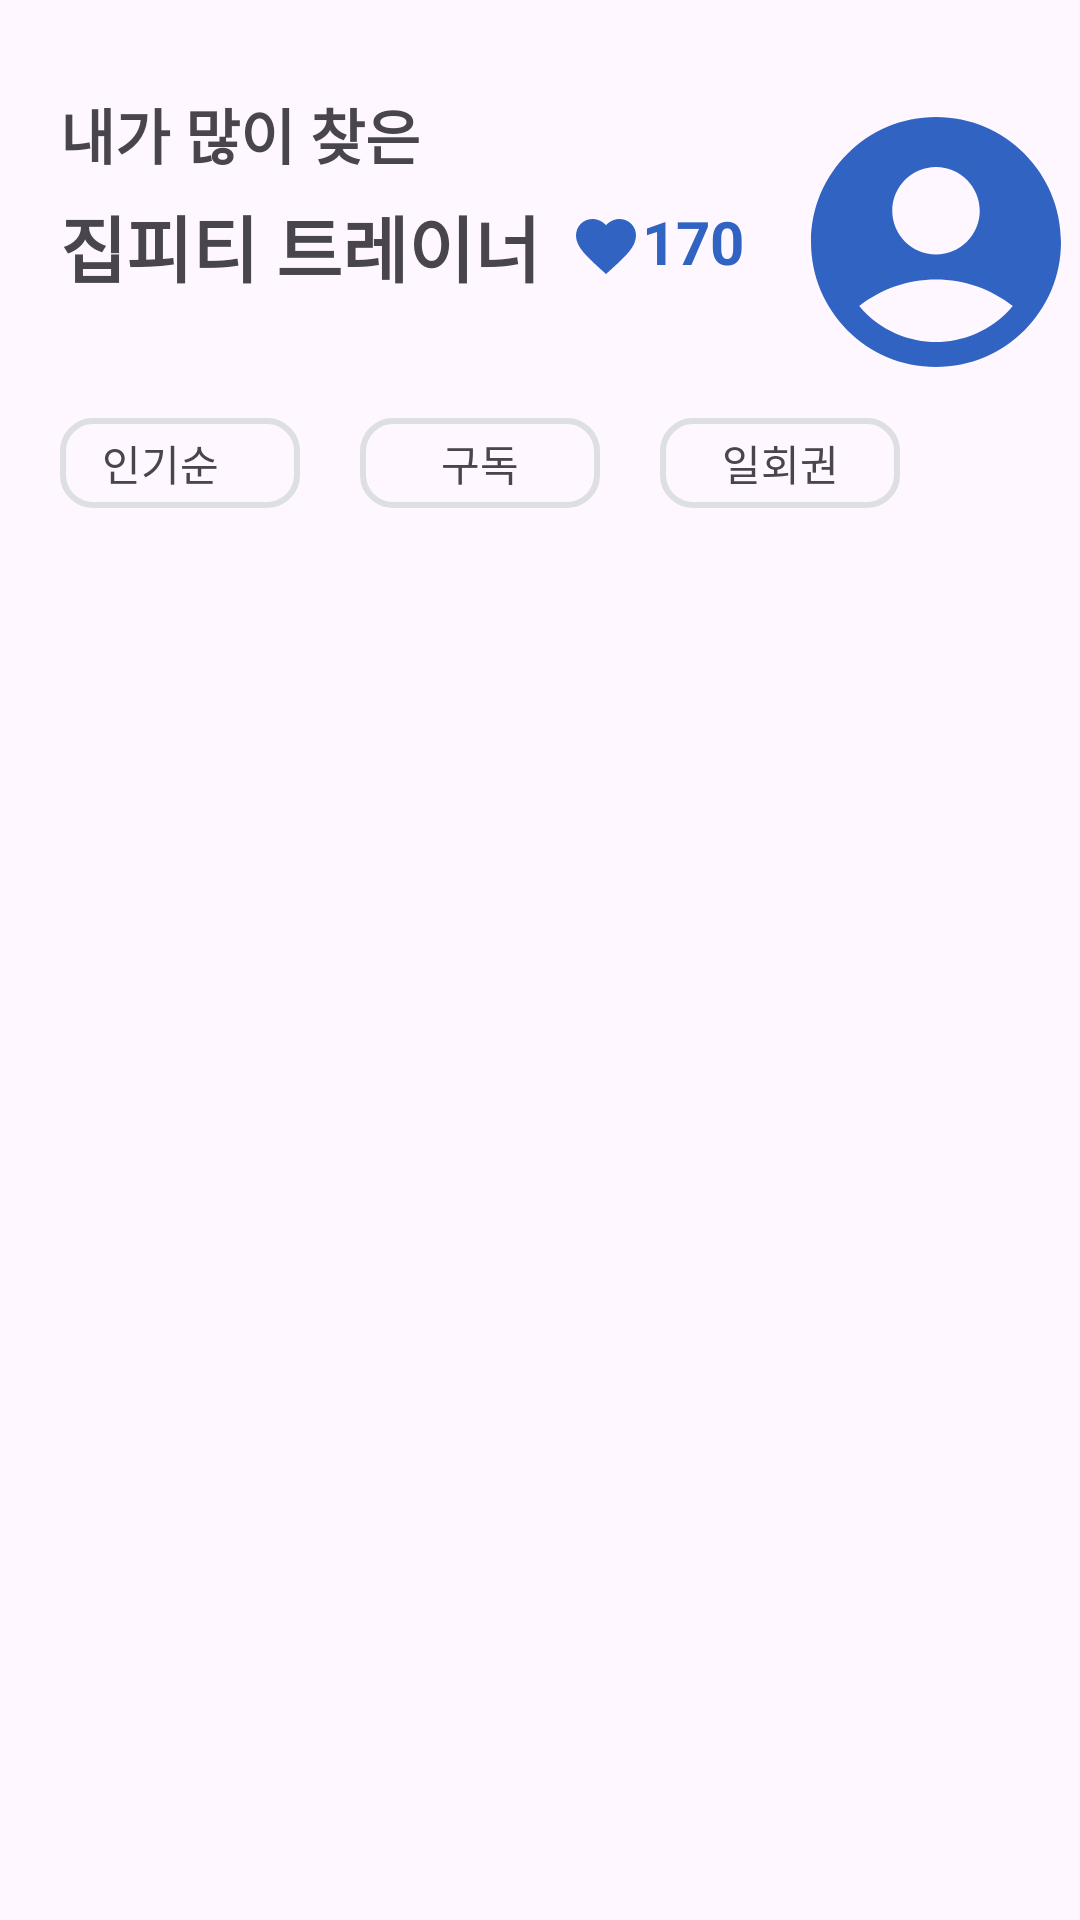

Screen size 1080px×1920px. Icon name, then its center in pixels as (x=x, y=y):
favorite: (x=606, y=246)
profile mysub: (x=936, y=242)
